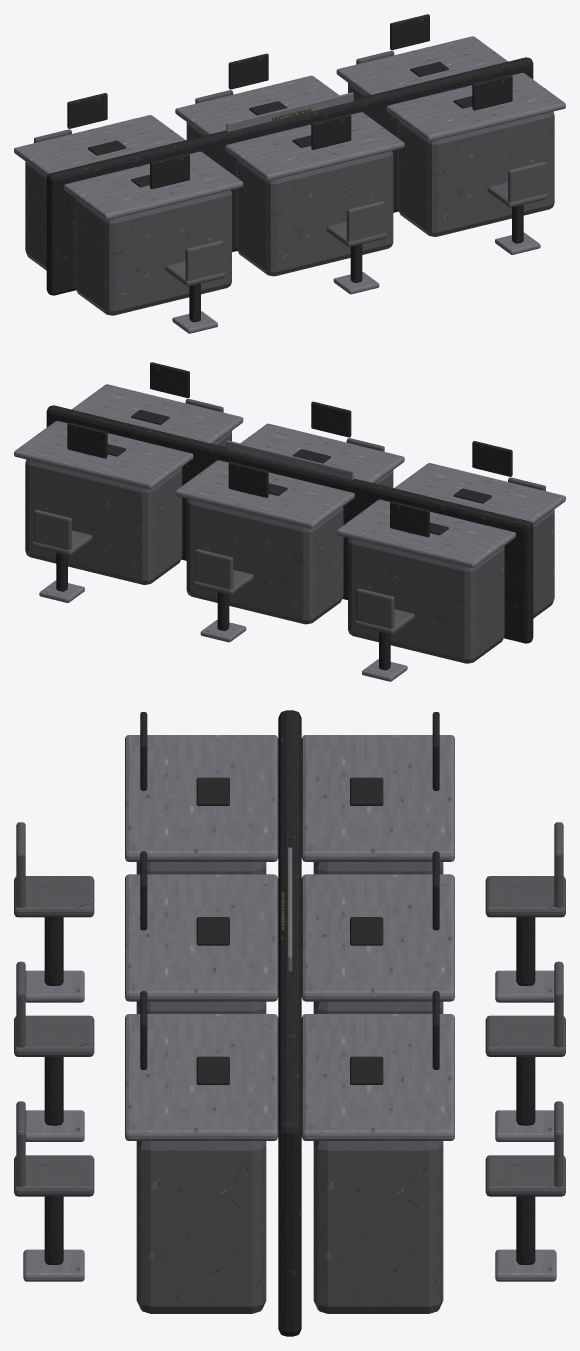
File: decor_bridge_duty_station_bank.glb
3 renders of one model, top to bottom at view 1: azimuth 30°, elevation 25°; view 2: azimuth 150°, elevation 25°; view 3: azimuth 270°, elevation 25°, orthographic. The views are drawn at different scales.
Visible parts, largest first — view 1: DEC_BridgeDutyStationBank__Desk_Support_A_2, DEC_BridgeDutyStationBank__Desk_Support_A_3, DEC_BridgeDutyStationBank__Desk_Support_A_1, DEC_BridgeDutyStationBank__Spine, DEC_BridgeDutyStationBank__Desk_Top_A_3, DEC_BridgeDutyStationBank__Desk_Top_A_2, DEC_BridgeDutyStationBank__Desk_Top_A_1, DEC_BridgeDutyStationBank__Desk_Top_B_1, DEC_BridgeDutyStationBank__Desk_Top_B_3, DEC_BridgeDutyStationBank__Desk_Top_B_2, DEC_BridgeDutyStationBank__Desk_Support_B_1, DEC_BridgeDutyStationBank__Chair_Back_A_1 (+18 smaller); view 2: DEC_BridgeDutyStationBank__Desk_Support_B_2, DEC_BridgeDutyStationBank__Desk_Support_B_3, DEC_BridgeDutyStationBank__Desk_Support_B_1, DEC_BridgeDutyStationBank__Spine, DEC_BridgeDutyStationBank__Desk_Top_B_3, DEC_BridgeDutyStationBank__Desk_Top_B_2, DEC_BridgeDutyStationBank__Desk_Top_B_1, DEC_BridgeDutyStationBank__Desk_Top_A_1, DEC_BridgeDutyStationBank__Desk_Top_A_3, DEC_BridgeDutyStationBank__Desk_Top_A_2, DEC_BridgeDutyStationBank__Desk_Support_A_1, DEC_BridgeDutyStationBank__Chair_Back_B_1 (+18 smaller); view 3: DEC_BridgeDutyStationBank__Desk_Support_A_3, DEC_BridgeDutyStationBank__Desk_Support_B_3, DEC_BridgeDutyStationBank__Desk_Top_A_2, DEC_BridgeDutyStationBank__Desk_Top_B_2, DEC_BridgeDutyStationBank__Desk_Top_A_3, DEC_BridgeDutyStationBank__Desk_Top_B_3, DEC_BridgeDutyStationBank__Desk_Top_A_1, DEC_BridgeDutyStationBank__Desk_Top_B_1, DEC_BridgeDutyStationBank__Spine, DEC_BridgeDutyStationBank__Chair_Seat_A_1, DEC_BridgeDutyStationBank__Chair_Seat_B_1, DEC_BridgeDutyStationBank__Chair_Seat_A_3 (+31 smaller).
Boxes of the visible parts, x1=… form: DEC_BridgeDutyStationBank__Desk_Support_A_2: x1=236, y1=151, x2=393, y2=276; DEC_BridgeDutyStationBank__Desk_Support_A_3: x1=397, y1=111, x2=554, y2=236; DEC_BridgeDutyStationBank__Desk_Support_A_1: x1=75, y1=190, x2=231, y2=315; DEC_BridgeDutyStationBank__Spine: x1=46, y1=57, x2=533, y2=295; DEC_BridgeDutyStationBank__Desk_Top_A_3: x1=386, y1=73, x2=565, y2=141; DEC_BridgeDutyStationBank__Desk_Top_A_2: x1=225, y1=112, x2=404, y2=180; DEC_BridgeDutyStationBank__Desk_Top_A_1: x1=64, y1=151, x2=243, y2=220; DEC_BridgeDutyStationBank__Desk_Top_B_1: x1=14, y1=115, x2=185, y2=176; DEC_BridgeDutyStationBank__Desk_Top_B_3: x1=336, y1=36, x2=507, y2=95; DEC_BridgeDutyStationBank__Desk_Top_B_2: x1=175, y1=75, x2=339, y2=135; DEC_BridgeDutyStationBank__Desk_Support_B_1: x1=25, y1=161, x2=46, y2=270; DEC_BridgeDutyStationBank__Chair_Back_A_1: x1=185, y1=240, x2=223, y2=280; DEC_BridgeDutyStationBank__Desk_Support_B_2: x1=186, y1=499, x2=343, y2=624; DEC_BridgeDutyStationBank__Desk_Support_B_3: x1=25, y1=459, x2=182, y2=584; DEC_BridgeDutyStationBank__Desk_Support_B_1: x1=348, y1=538, x2=504, y2=663; DEC_BridgeDutyStationBank__Spine: x1=46, y1=405, x2=533, y2=643; DEC_BridgeDutyStationBank__Desk_Top_B_3: x1=14, y1=421, x2=193, y2=489; DEC_BridgeDutyStationBank__Desk_Top_B_2: x1=175, y1=460, x2=354, y2=528; DEC_BridgeDutyStationBank__Desk_Top_B_1: x1=336, y1=499, x2=515, y2=568; DEC_BridgeDutyStationBank__Desk_Top_A_1: x1=394, y1=463, x2=565, y2=524; DEC_BridgeDutyStationBank__Desk_Top_A_3: x1=72, y1=384, x2=243, y2=443; DEC_BridgeDutyStationBank__Desk_Top_A_2: x1=240, y1=423, x2=404, y2=483; DEC_BridgeDutyStationBank__Desk_Support_A_1: x1=533, y1=509, x2=554, y2=618; DEC_BridgeDutyStationBank__Chair_Back_B_1: x1=356, y1=588, x2=394, y2=628; DEC_BridgeDutyStationBank__Desk_Support_A_3: x1=136, y1=1141, x2=266, y2=1313; DEC_BridgeDutyStationBank__Desk_Support_B_3: x1=313, y1=1141, x2=443, y2=1313; DEC_BridgeDutyStationBank__Desk_Top_A_2: x1=125, y1=874, x2=278, y2=1001; DEC_BridgeDutyStationBank__Desk_Top_B_2: x1=301, y1=874, x2=454, y2=1001; DEC_BridgeDutyStationBank__Desk_Top_A_3: x1=125, y1=1014, x2=278, y2=1140; DEC_BridgeDutyStationBank__Desk_Top_B_3: x1=301, y1=1014, x2=454, y2=1140; DEC_BridgeDutyStationBank__Desk_Top_A_1: x1=125, y1=735, x2=278, y2=861; DEC_BridgeDutyStationBank__Desk_Top_B_1: x1=301, y1=735, x2=454, y2=861; DEC_BridgeDutyStationBank__Spine: x1=278, y1=710, x2=301, y2=1336; DEC_BridgeDutyStationBank__Chair_Seat_A_1: x1=14, y1=876, x2=94, y2=917; DEC_BridgeDutyStationBank__Chair_Seat_B_1: x1=485, y1=876, x2=565, y2=917; DEC_BridgeDutyStationBank__Chair_Seat_A_3: x1=14, y1=1155, x2=94, y2=1196.
Bounding box in the file's own units: 4.2 × 1.23 × 2.34.
Materials: 6 (3 with a texture image).
